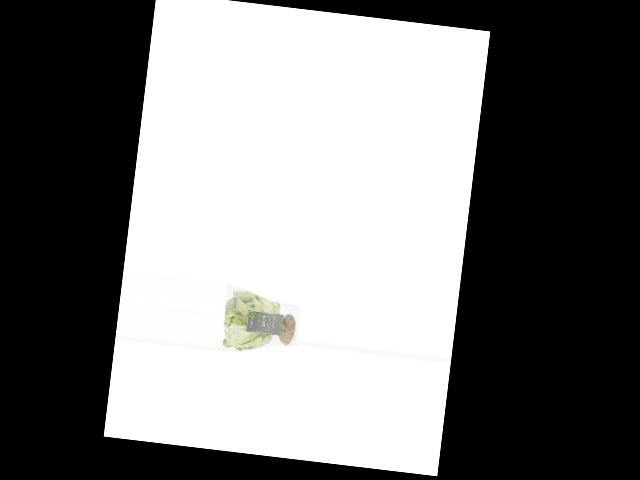lettuce: (219, 285, 303, 360)
